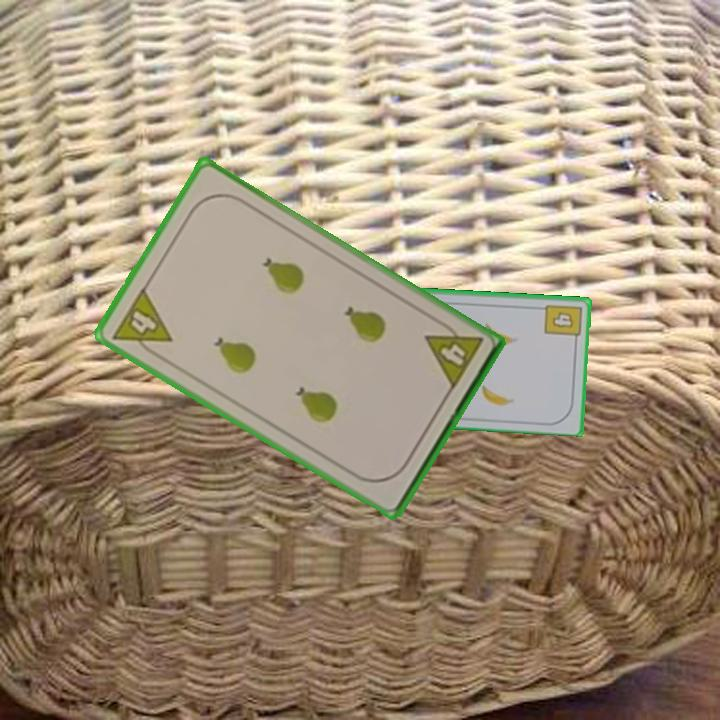4b: (541, 301, 584, 345)
4p: (108, 283, 175, 363), (421, 316, 485, 393)
